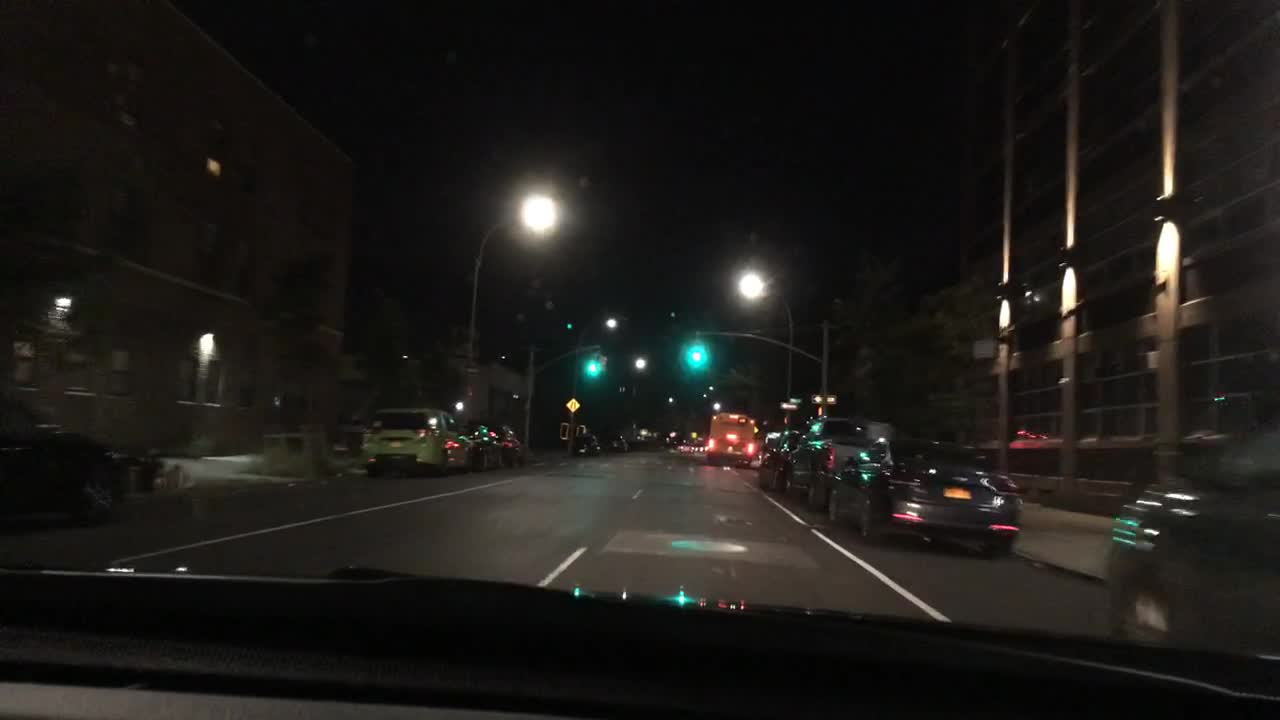bus: (711, 410, 753, 466)
car: (1103, 386, 1276, 660), (831, 439, 1021, 552), (2, 386, 121, 530), (784, 421, 888, 506), (363, 410, 472, 479), (759, 429, 802, 487), (460, 420, 504, 471), (490, 421, 526, 466), (571, 432, 600, 457), (603, 431, 630, 450), (676, 436, 696, 456), (691, 435, 708, 455), (664, 432, 678, 452), (638, 432, 652, 443)
traffic light: (689, 344, 702, 366), (595, 353, 608, 372), (589, 353, 598, 373)
traffic sign: (971, 339, 998, 358), (464, 364, 486, 376), (814, 394, 836, 403), (568, 397, 579, 411), (779, 402, 798, 409), (789, 397, 799, 403)
